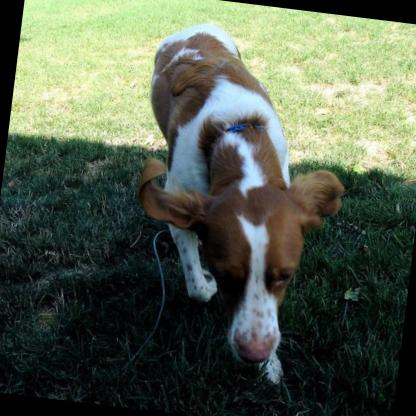Brittany_spaniel: (112, 17, 362, 391)
